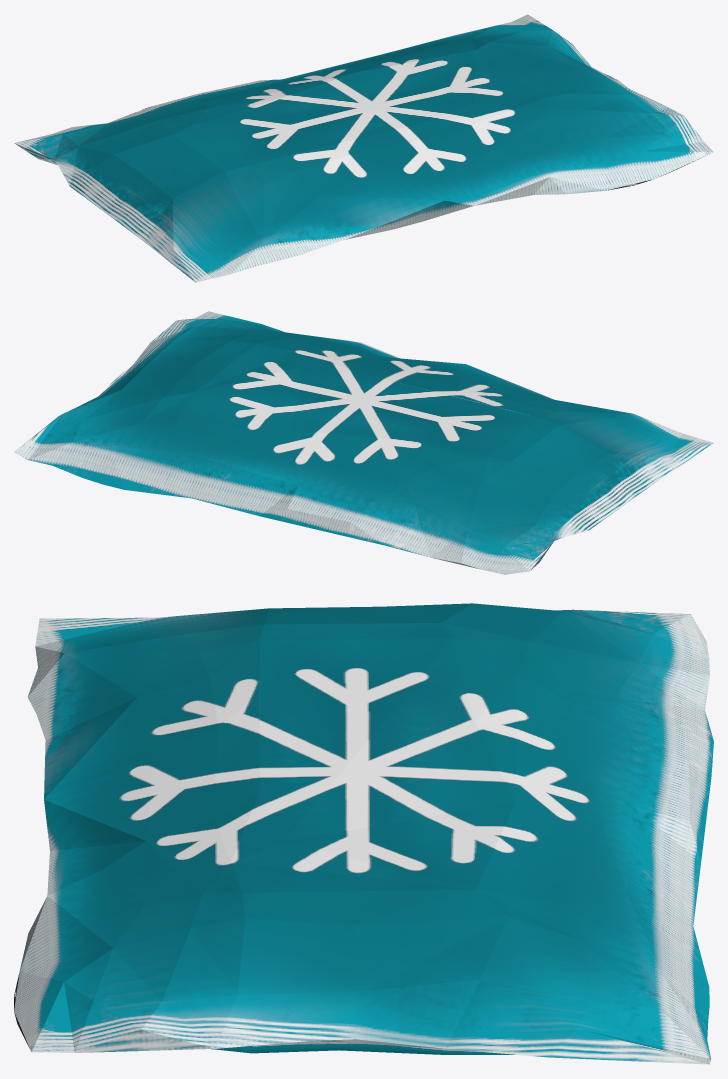
The model's file is Kühlpack.fbx.
3 renders of one model, top to bottom at view 1: azimuth 30°, elevation 25°; view 2: azimuth 150°, elevation 25°; view 3: azimuth 270°, elevation 25°, orthographic. The views are drawn at different scales.
Visible parts, largest first — view 1: Kühlpack; view 2: Kühlpack; view 3: Kühlpack.
Part boxes in pixels (x1,y1,x2,y2): Kühlpack: (14,14,713,282); Kühlpack: (14,311,713,574); Kühlpack: (14,603,713,1064).
Size of the model in its own units: 319 by 48.15 by 209.
Materials: 1 (1 with a texture image).
